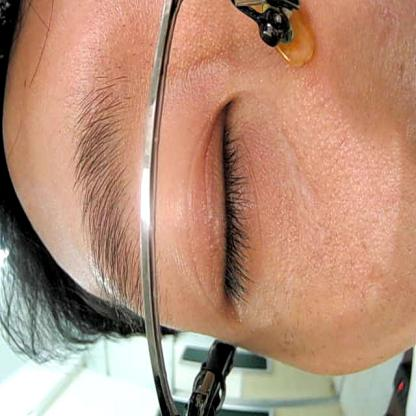Close: (177, 82, 264, 318)
